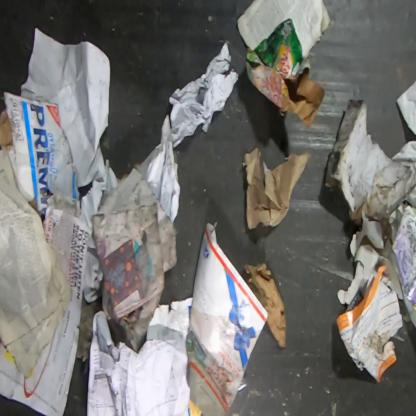cardboard: (185, 221, 270, 415), (0, 91, 80, 219), (246, 16, 325, 132), (243, 261, 287, 348)
soft_plastic: (391, 205, 416, 330)
